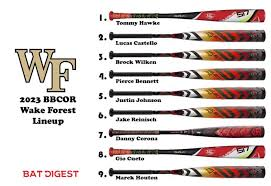baseball bat: (107, 8, 266, 24), (109, 29, 267, 44), (108, 125, 265, 140), (109, 86, 267, 100), (109, 105, 267, 119), (109, 145, 266, 159), (108, 48, 266, 61), (108, 165, 265, 178), (108, 68, 266, 80)
